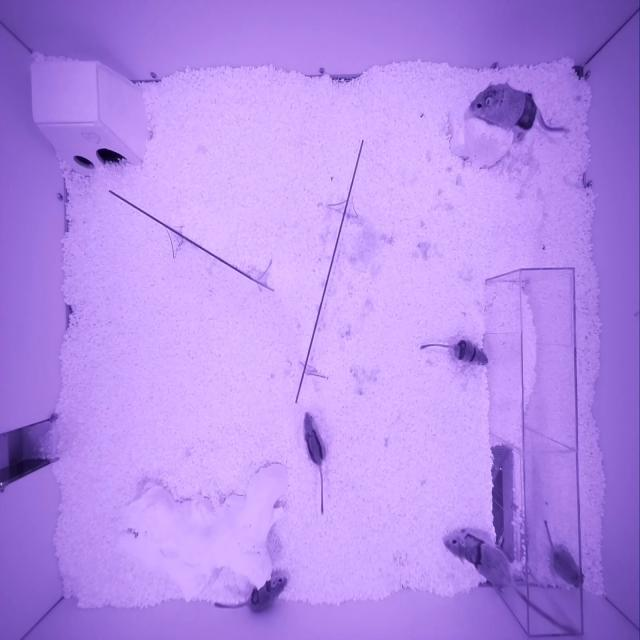adult_back: (470, 82, 537, 132)
adult_front: (442, 532, 511, 587)
pup_fluffy: (552, 549, 584, 587)
pup_h_stripe: (453, 340, 489, 367)
pup_spotted: (248, 577, 287, 613)
pup_v_stripe: (303, 411, 325, 465)
